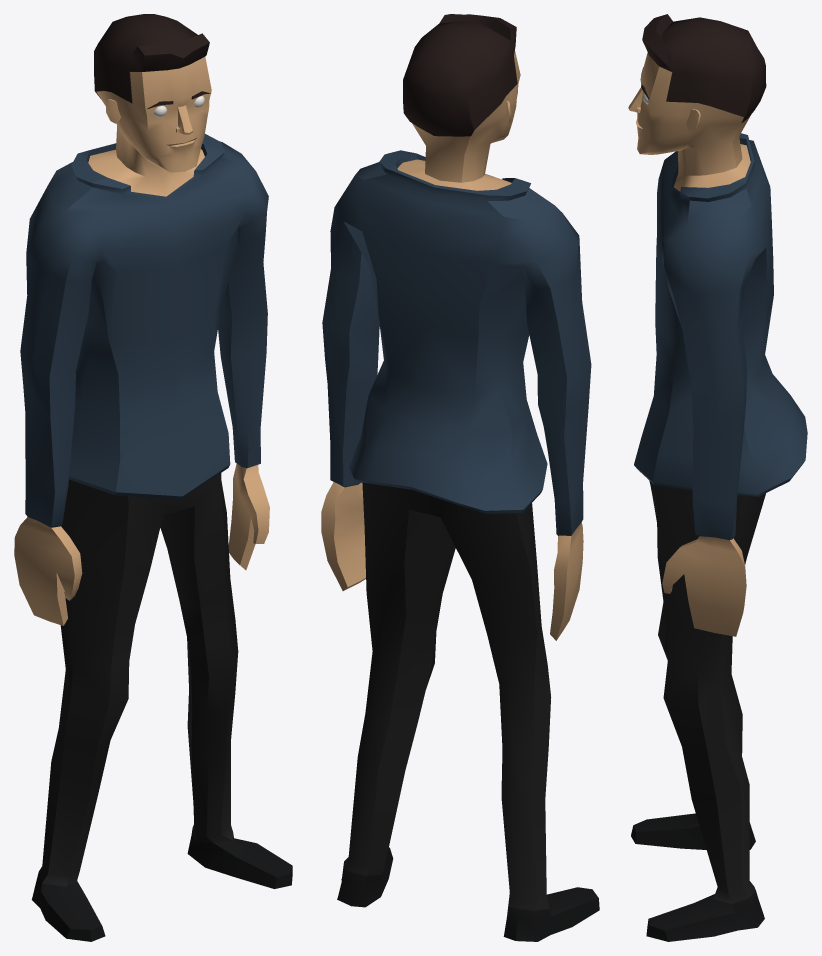
The model's file is male_longsleeve.glb.
3 renders of one model, left to right at view 1: azimuth 30°, elevation 25°; view 2: azimuth 150°, elevation 25°; view 3: azimuth 270°, elevation 25°, orthographic.
Visible parts, largest first — view 1: MaleLongsleeve; view 2: MaleLongsleeve; view 3: MaleLongsleeve.
Part boxes in pixels (bbox=[...]): MaleLongsleeve: bbox=[14, 14, 292, 941]; MaleLongsleeve: bbox=[321, 14, 599, 941]; MaleLongsleeve: bbox=[628, 14, 807, 941].
Size of the model in its own units: 0.5301 by 1.8 by 0.3404.
